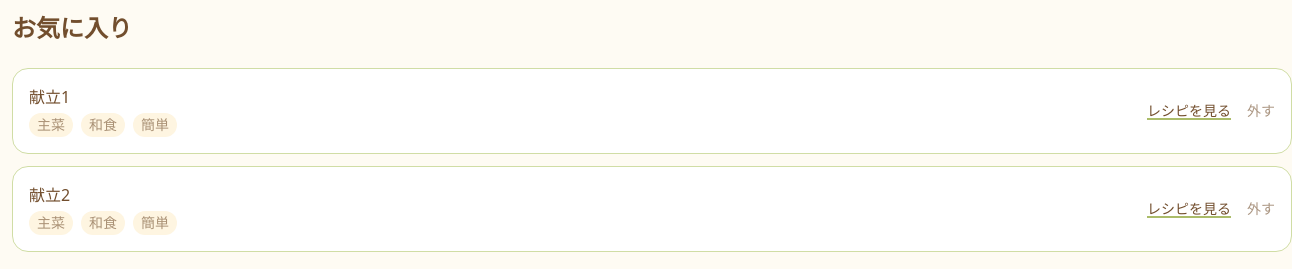
Scenario: お気に入り画面 › お気に入りから外せる
Click the button "外す" in the row of "献立1" at (1261, 111), box x1=1247 y1=101 x2=1275 y2=121
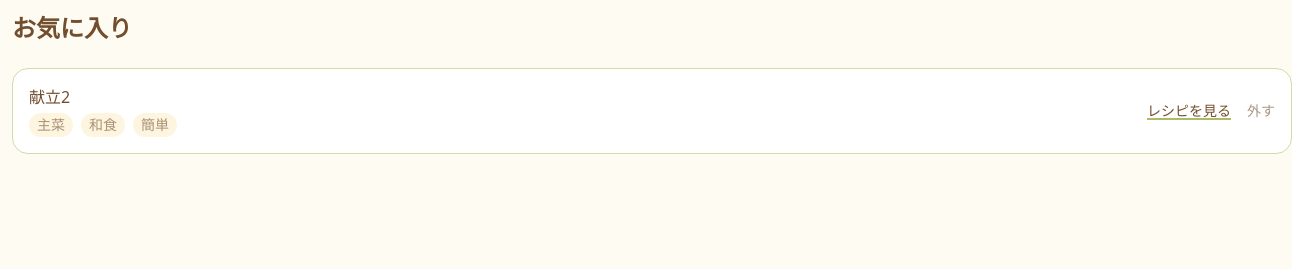
expect the text "献立2" is shown: met, box x1=29 y1=86 x2=70 y2=108
expect the text "献立1" is gone: met
